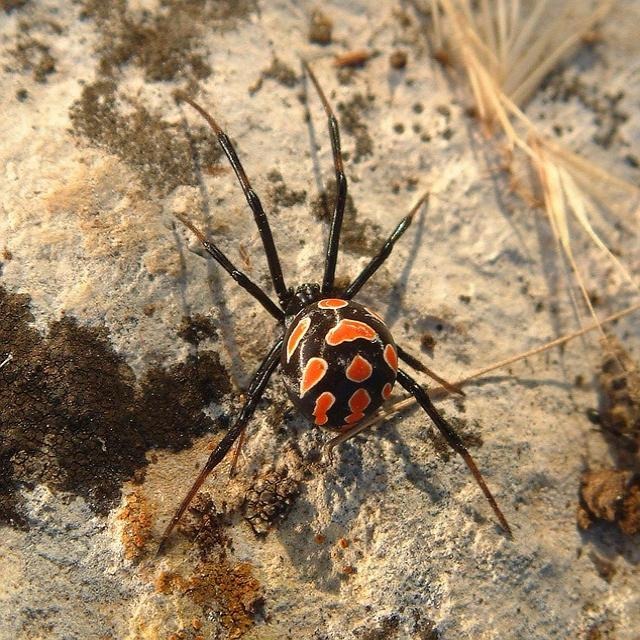spyder: (162, 61, 510, 548)
